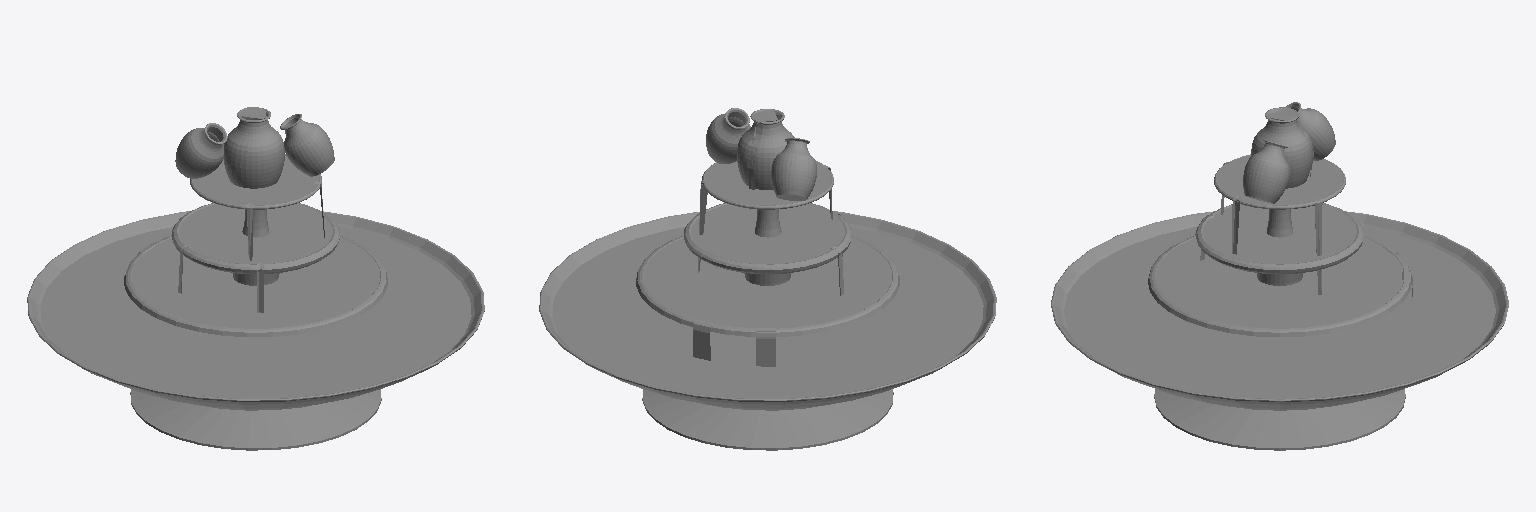
File: fuente.obj
3 views of the same model, side by side, from view 1: azimuth 30°, elevation 25°; view 2: azimuth 150°, elevation 25°; view 3: azimuth 270°, elevation 25° (orthographic).
Parts seen in each view (by area): view 1: AGUA, Cylinder_001, Plane_015, Plane_014, cantaro1, Plane_018, Cylinder_005, cantaro3, Plane_016; view 2: AGUA, Cylinder_001, Plane_015, Plane_014, Plane_016, cantaro1, cantaro3, Plane_018, Cylinder_005; view 3: AGUA, Cylinder_001, Plane_015, Plane_014, Plane_018, cantaro1, Cylinder_005, Plane_016, cantaro3.
Part boxes in pixels (bbox=[...]): AGUA: bbox=[40, 227, 471, 398]; Cylinder_001: bbox=[27, 174, 484, 450]; Plane_015: bbox=[132, 238, 380, 328]; Plane_014: bbox=[179, 204, 332, 263]; cantaro1: bbox=[224, 107, 284, 188]; Plane_018: bbox=[193, 155, 318, 205]; Cylinder_005: bbox=[280, 114, 334, 176]; cantaro3: bbox=[175, 123, 227, 178]; Plane_016: bbox=[139, 107, 324, 312]; AGUA: bbox=[552, 227, 983, 398]; Cylinder_001: bbox=[539, 160, 996, 450]; Plane_015: bbox=[643, 238, 892, 328]; Plane_014: bbox=[691, 204, 844, 263]; Plane_016: bbox=[693, 110, 843, 366]; cantaro1: bbox=[737, 109, 794, 189]; cantaro3: bbox=[771, 138, 816, 200]; Plane_018: bbox=[705, 161, 830, 205]; Cylinder_005: bbox=[706, 108, 750, 163]; AGUA: bbox=[1064, 227, 1495, 398]; Cylinder_001: bbox=[1051, 154, 1508, 450]; Plane_015: bbox=[1155, 238, 1403, 328]; Plane_014: bbox=[1203, 204, 1356, 263]; Plane_018: bbox=[1216, 155, 1343, 205]; cantaro1: bbox=[1251, 107, 1312, 188]; Cylinder_005: bbox=[1243, 140, 1289, 203]; Plane_016: bbox=[1200, 109, 1412, 296]; cantaro3: bbox=[1286, 102, 1335, 160].
Size of the model in its own units: 34.6 by 23.55 by 34.6.